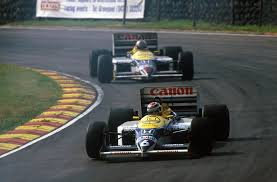FormulaOneCar: (84, 84, 237, 165), (85, 28, 207, 86)
